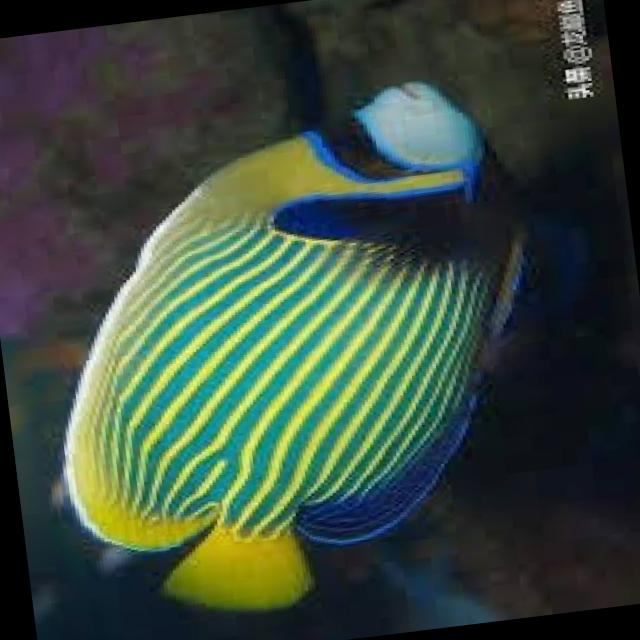AngelFish: (21, 74, 550, 624)
